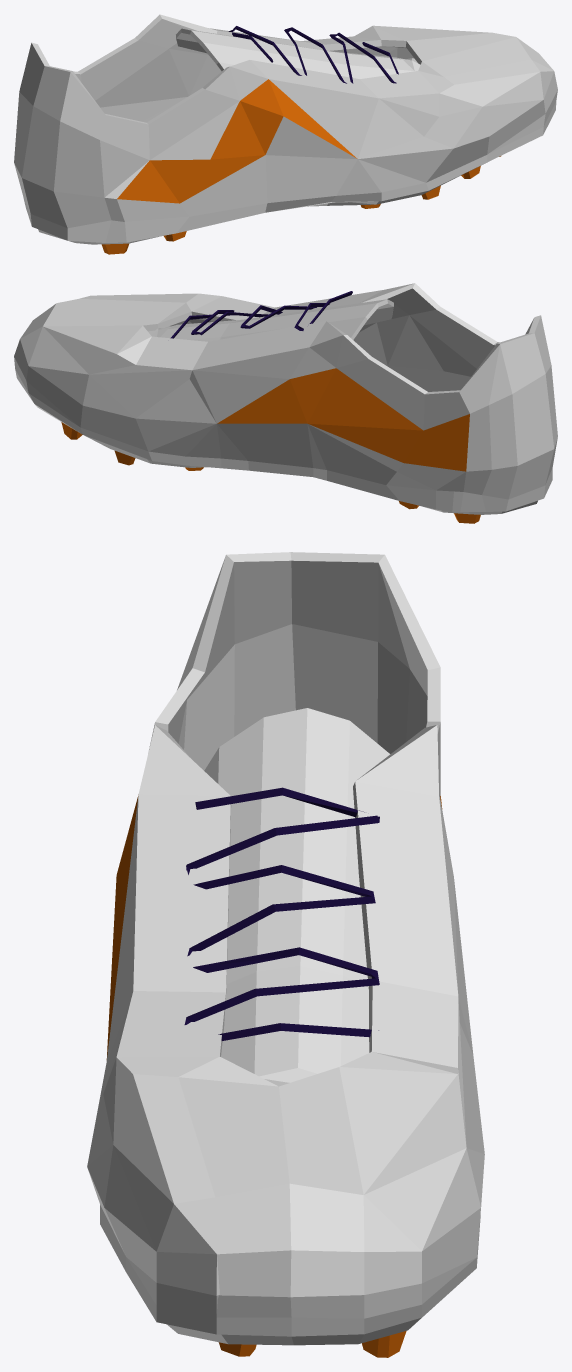
The model's file is White.glb.
3 views of the same model, one above another, from view 1: azimuth 30°, elevation 25°; view 2: azimuth 150°, elevation 25°; view 3: azimuth 270°, elevation 25° (orthographic). The views are drawn at different scales.
Visible parts, largest first — view 1: White; view 2: White; view 3: White.
Boxes of the visible parts, <box> form: White: <box>14,14,557,254</box>; White: <box>14,283,557,523</box>; White: <box>87,552,484,1357</box>.
Size of the model in its own units: 1.73 by 0.6357 by 0.57.
